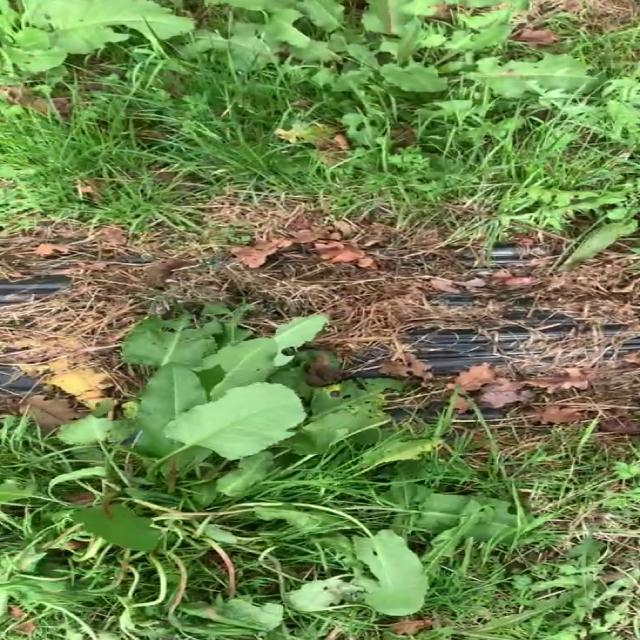organic waste: (0, 326, 519, 640), (191, 0, 606, 138), (0, 0, 181, 73)
